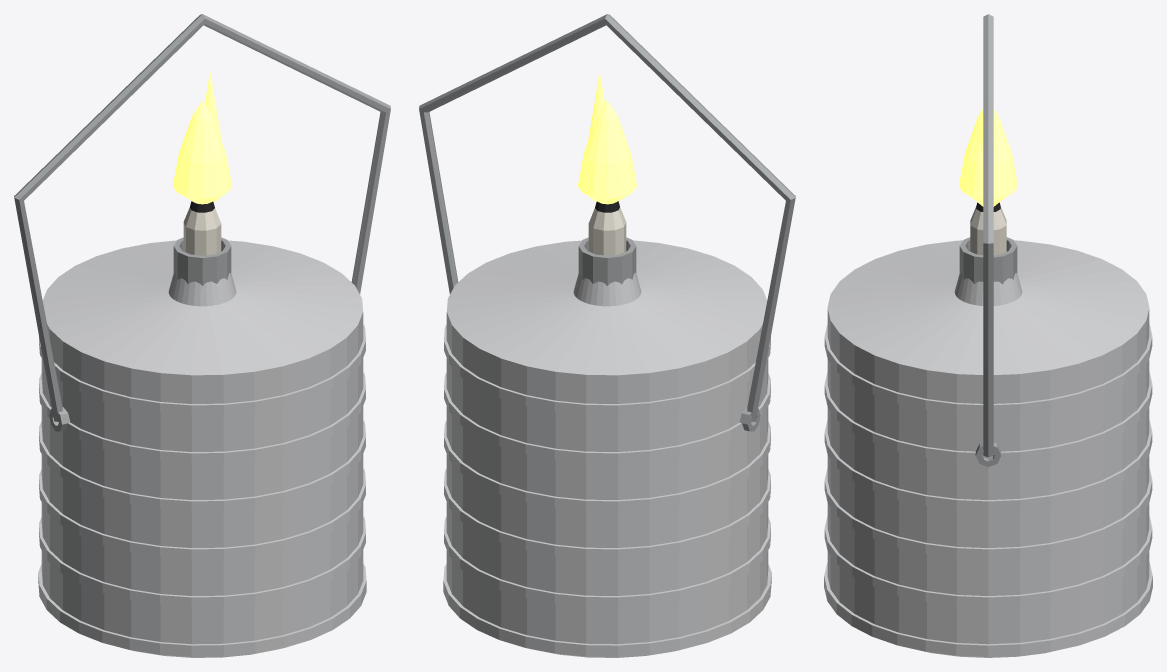
File: lamparina_lata.glb
3 views of the same model, side by side, from view 1: azimuth 30°, elevation 25°; view 2: azimuth 150°, elevation 25°; view 3: azimuth 270°, elevation 25° (orthographic).
Parts seen in each view (by area): view 1: lamparina_lata_lata, lamparina_lata_galvanizado, lamparina_lata_chama, lamparina_lata_pavio; view 2: lamparina_lata_lata, lamparina_lata_galvanizado, lamparina_lata_chama, lamparina_lata_pavio; view 3: lamparina_lata_lata, lamparina_lata_galvanizado, lamparina_lata_chama, lamparina_lata_pavio.
Boxes of the visible parts, bbox=[...] form: lamparina_lata_lata: bbox=[38, 240, 366, 657]; lamparina_lata_galvanizado: bbox=[14, 14, 390, 431]; lamparina_lata_chama: bbox=[173, 71, 231, 204]; lamparina_lata_pavio: bbox=[183, 207, 221, 255]; lamparina_lata_lata: bbox=[443, 240, 771, 657]; lamparina_lata_galvanizado: bbox=[419, 14, 795, 431]; lamparina_lata_chama: bbox=[578, 71, 636, 204]; lamparina_lata_pavio: bbox=[588, 207, 626, 255]; lamparina_lata_lata: bbox=[824, 240, 1152, 657]; lamparina_lata_galvanizado: bbox=[959, 14, 1017, 466]; lamparina_lata_chama: bbox=[959, 108, 1017, 206]; lamparina_lata_pavio: bbox=[970, 206, 1006, 254].
Size of the model in its own units: 0.1026 by 0.1514 by 0.0776.
